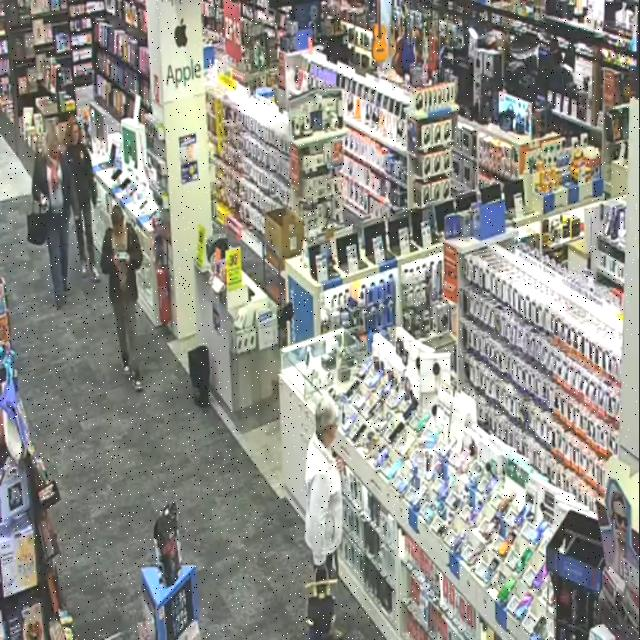article: (117, 252, 127, 259)
bags: (306, 568, 337, 637), (28, 201, 48, 245)
hands: (315, 563, 328, 581), (336, 456, 345, 474), (114, 253, 130, 263), (40, 195, 48, 206), (92, 193, 97, 206), (123, 254, 130, 263), (74, 213, 80, 221), (114, 255, 119, 264)
person: (32, 127, 77, 308), (101, 206, 143, 391), (305, 396, 343, 578), (65, 118, 100, 282)
